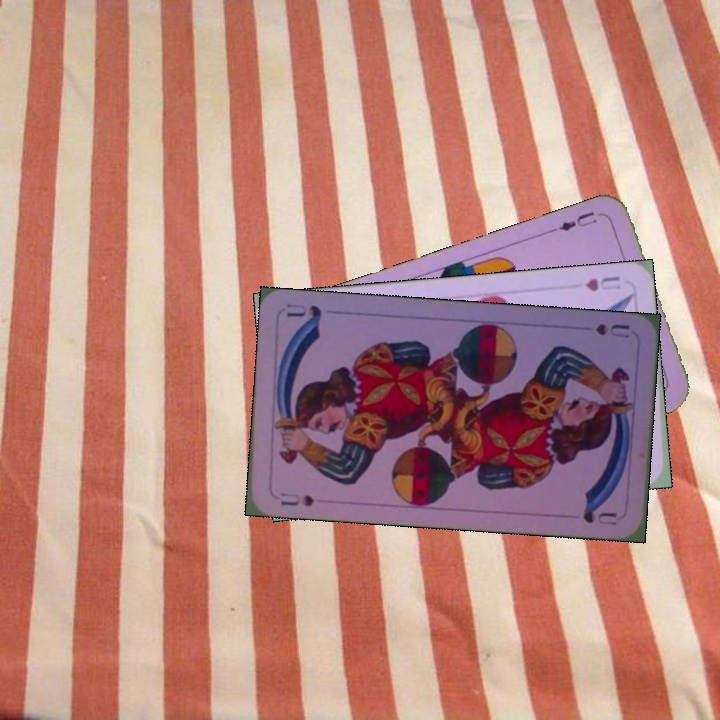EU: (547, 207, 600, 234)
HU: (582, 272, 623, 294)
SU: (591, 319, 632, 340), (276, 489, 317, 509)
